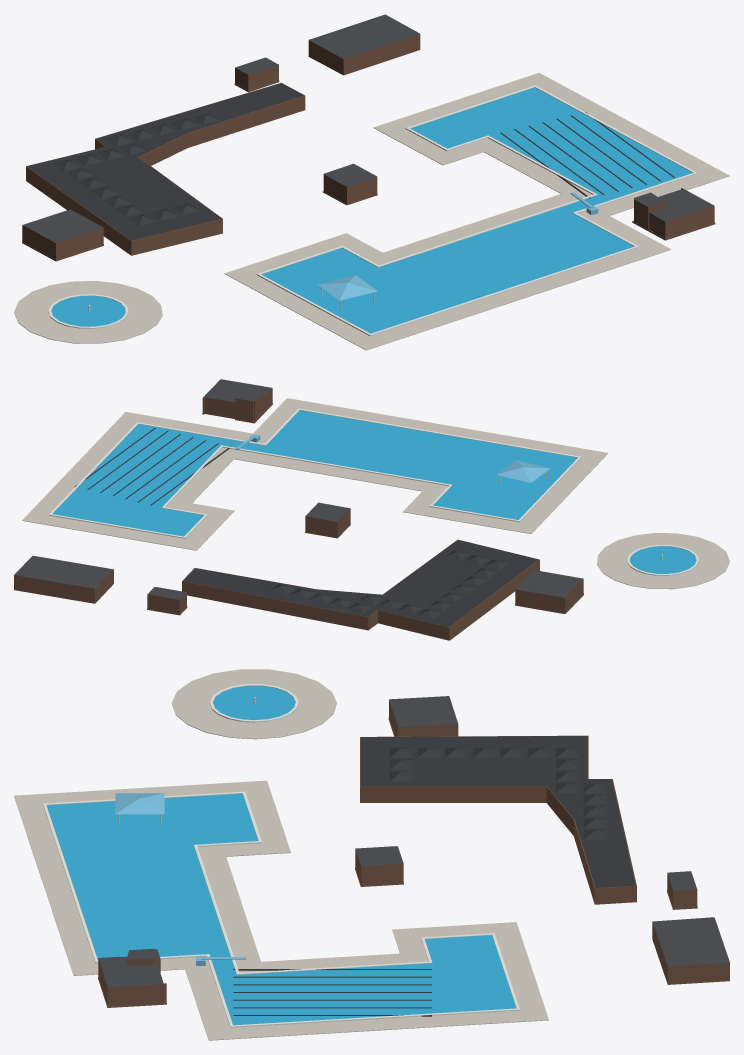
Rendered from flevoparkbad.glb.
3 views of the same model, one above another, from view 1: azimuth 30°, elevation 25°; view 2: azimuth 150°, elevation 25°; view 3: azimuth 270°, elevation 25° (orthographic). The views are drawn at different scales.
Visible parts, largest first — view 1: flevoparkbad; view 2: flevoparkbad; view 3: flevoparkbad.
Part boxes in pixels (bbox=[...]): flevoparkbad: bbox=[14, 14, 729, 350]; flevoparkbad: bbox=[14, 379, 729, 640]; flevoparkbad: bbox=[14, 669, 729, 1040].
Size of the model in its own units: 146 by 4.93 by 119.
